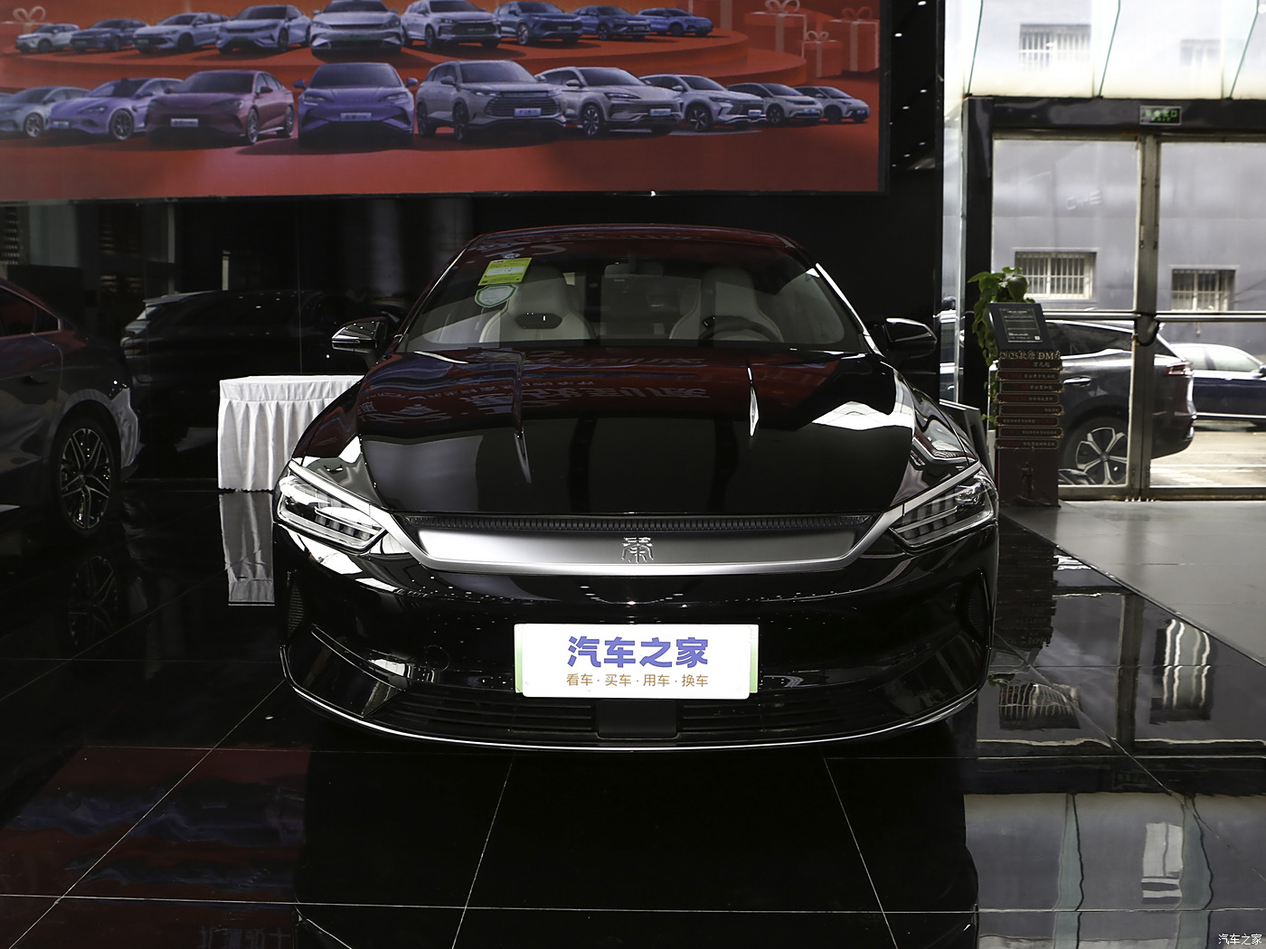BYD Qin: (622, 536, 653, 563)
